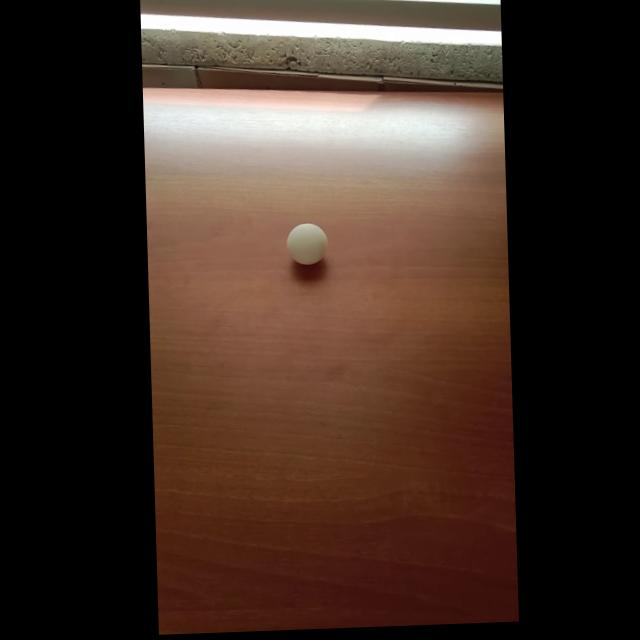white ball: (285, 222, 328, 266)
